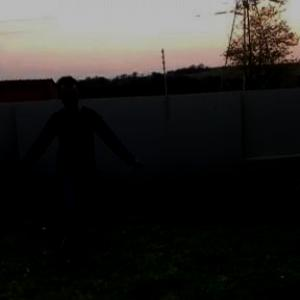land: (20, 79, 125, 233)
